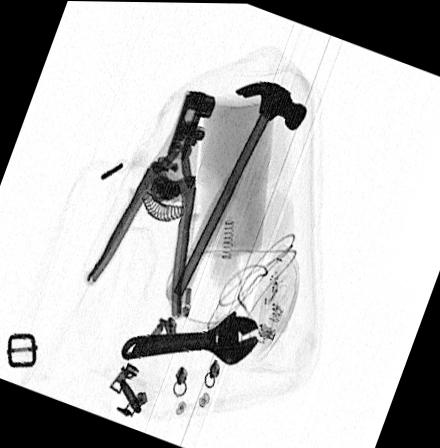Hammer: (163, 78, 308, 303)
Pliers: (81, 82, 216, 318)
Wrench: (118, 306, 263, 368)
